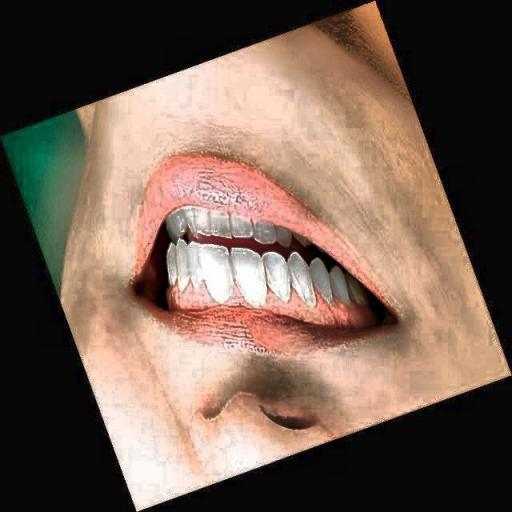Healthy: (137, 168, 368, 338)
